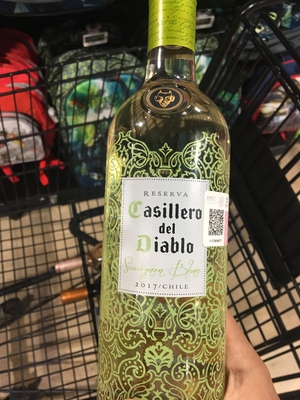casillero del diablo sauvignon blanc: (96, 14, 237, 396)
